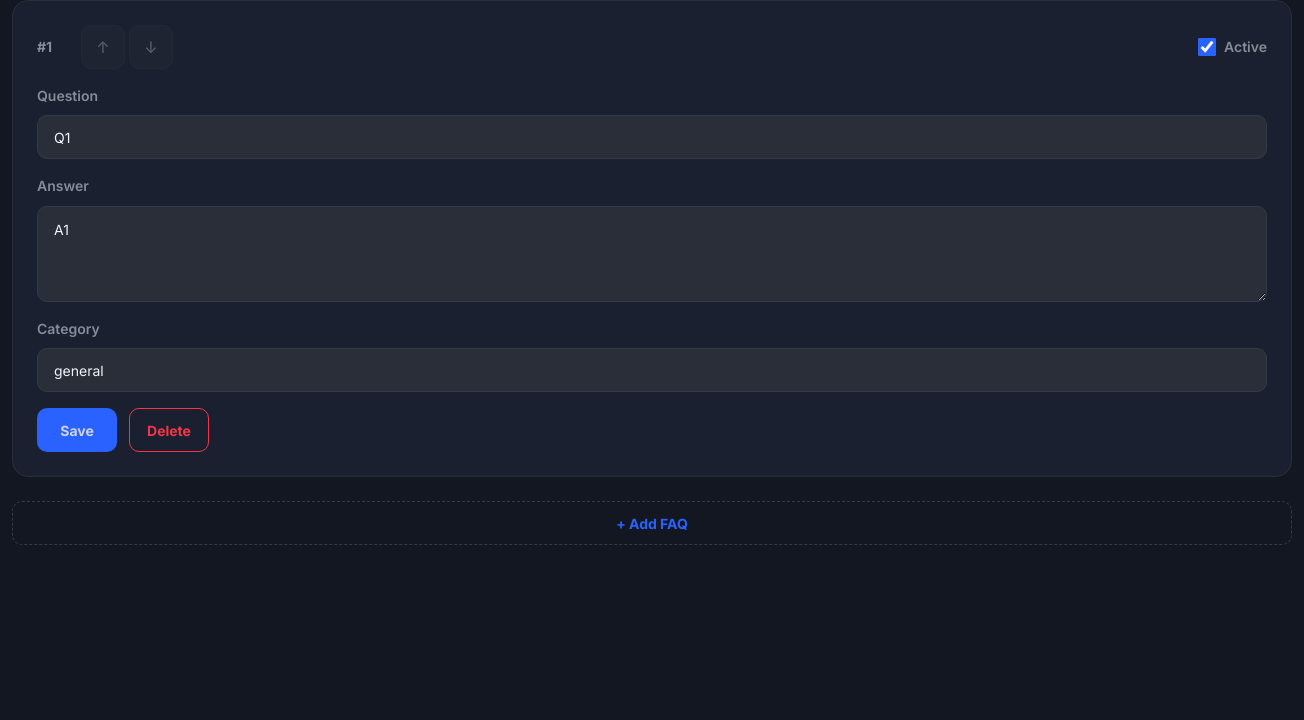
Test: FaqEditor › edits and saves an item
Replace the text in the field named "Question for faq-1" with "Q1 edited". click: (652, 137)
box: [37,115,1267,159]
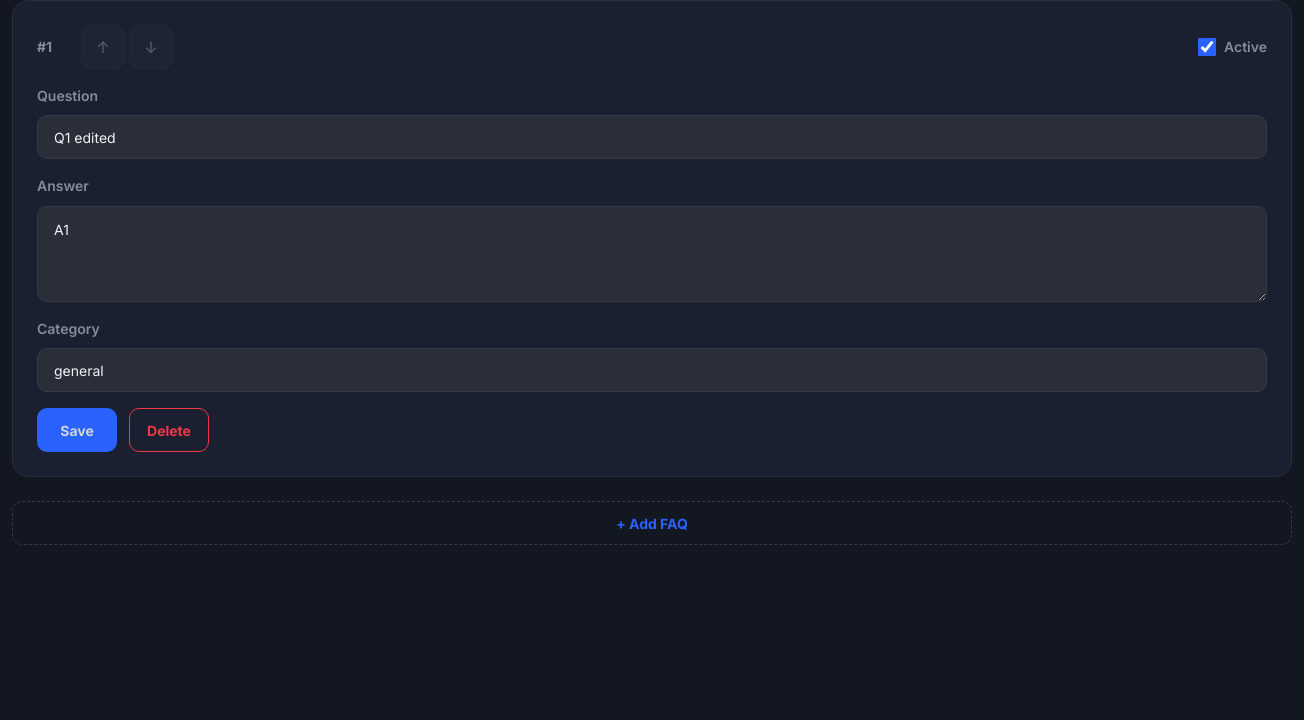
Click the button with aria-label "save faq-1". click: (77, 430)
box: [37,408,117,452]
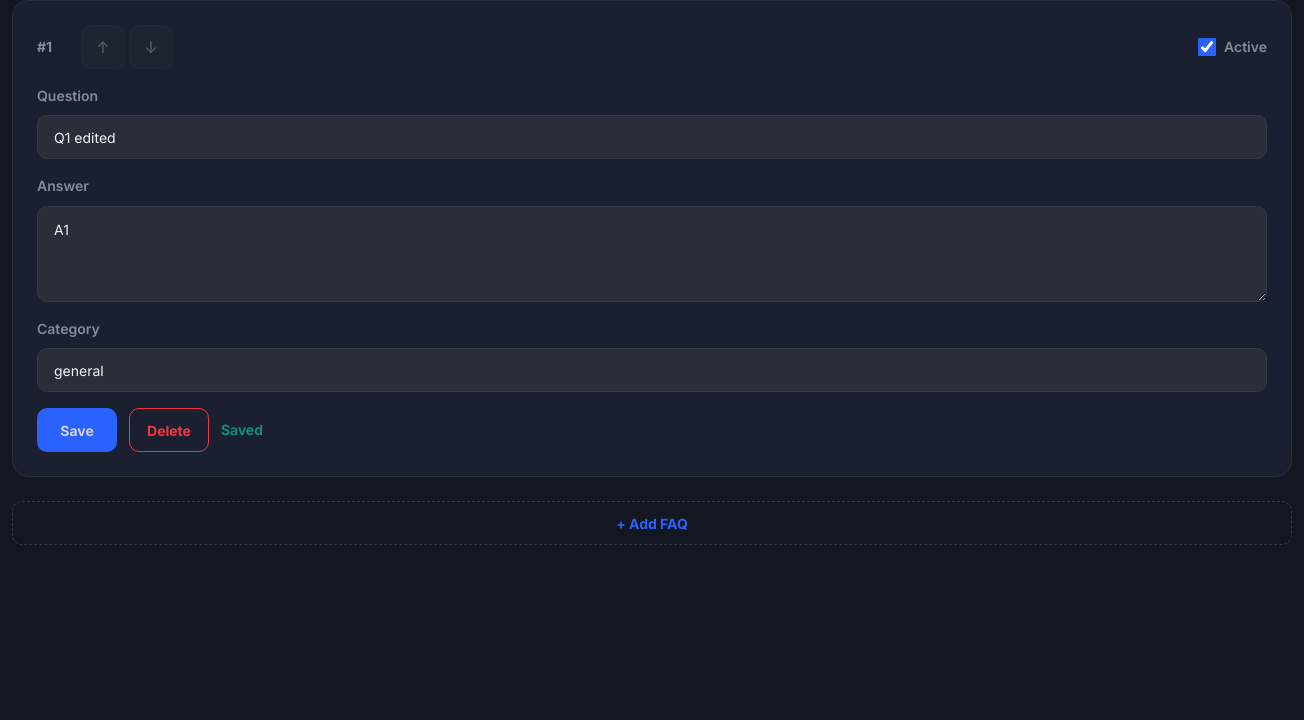
Check: the text "Saved" is shown, box [221,419,263,441]
